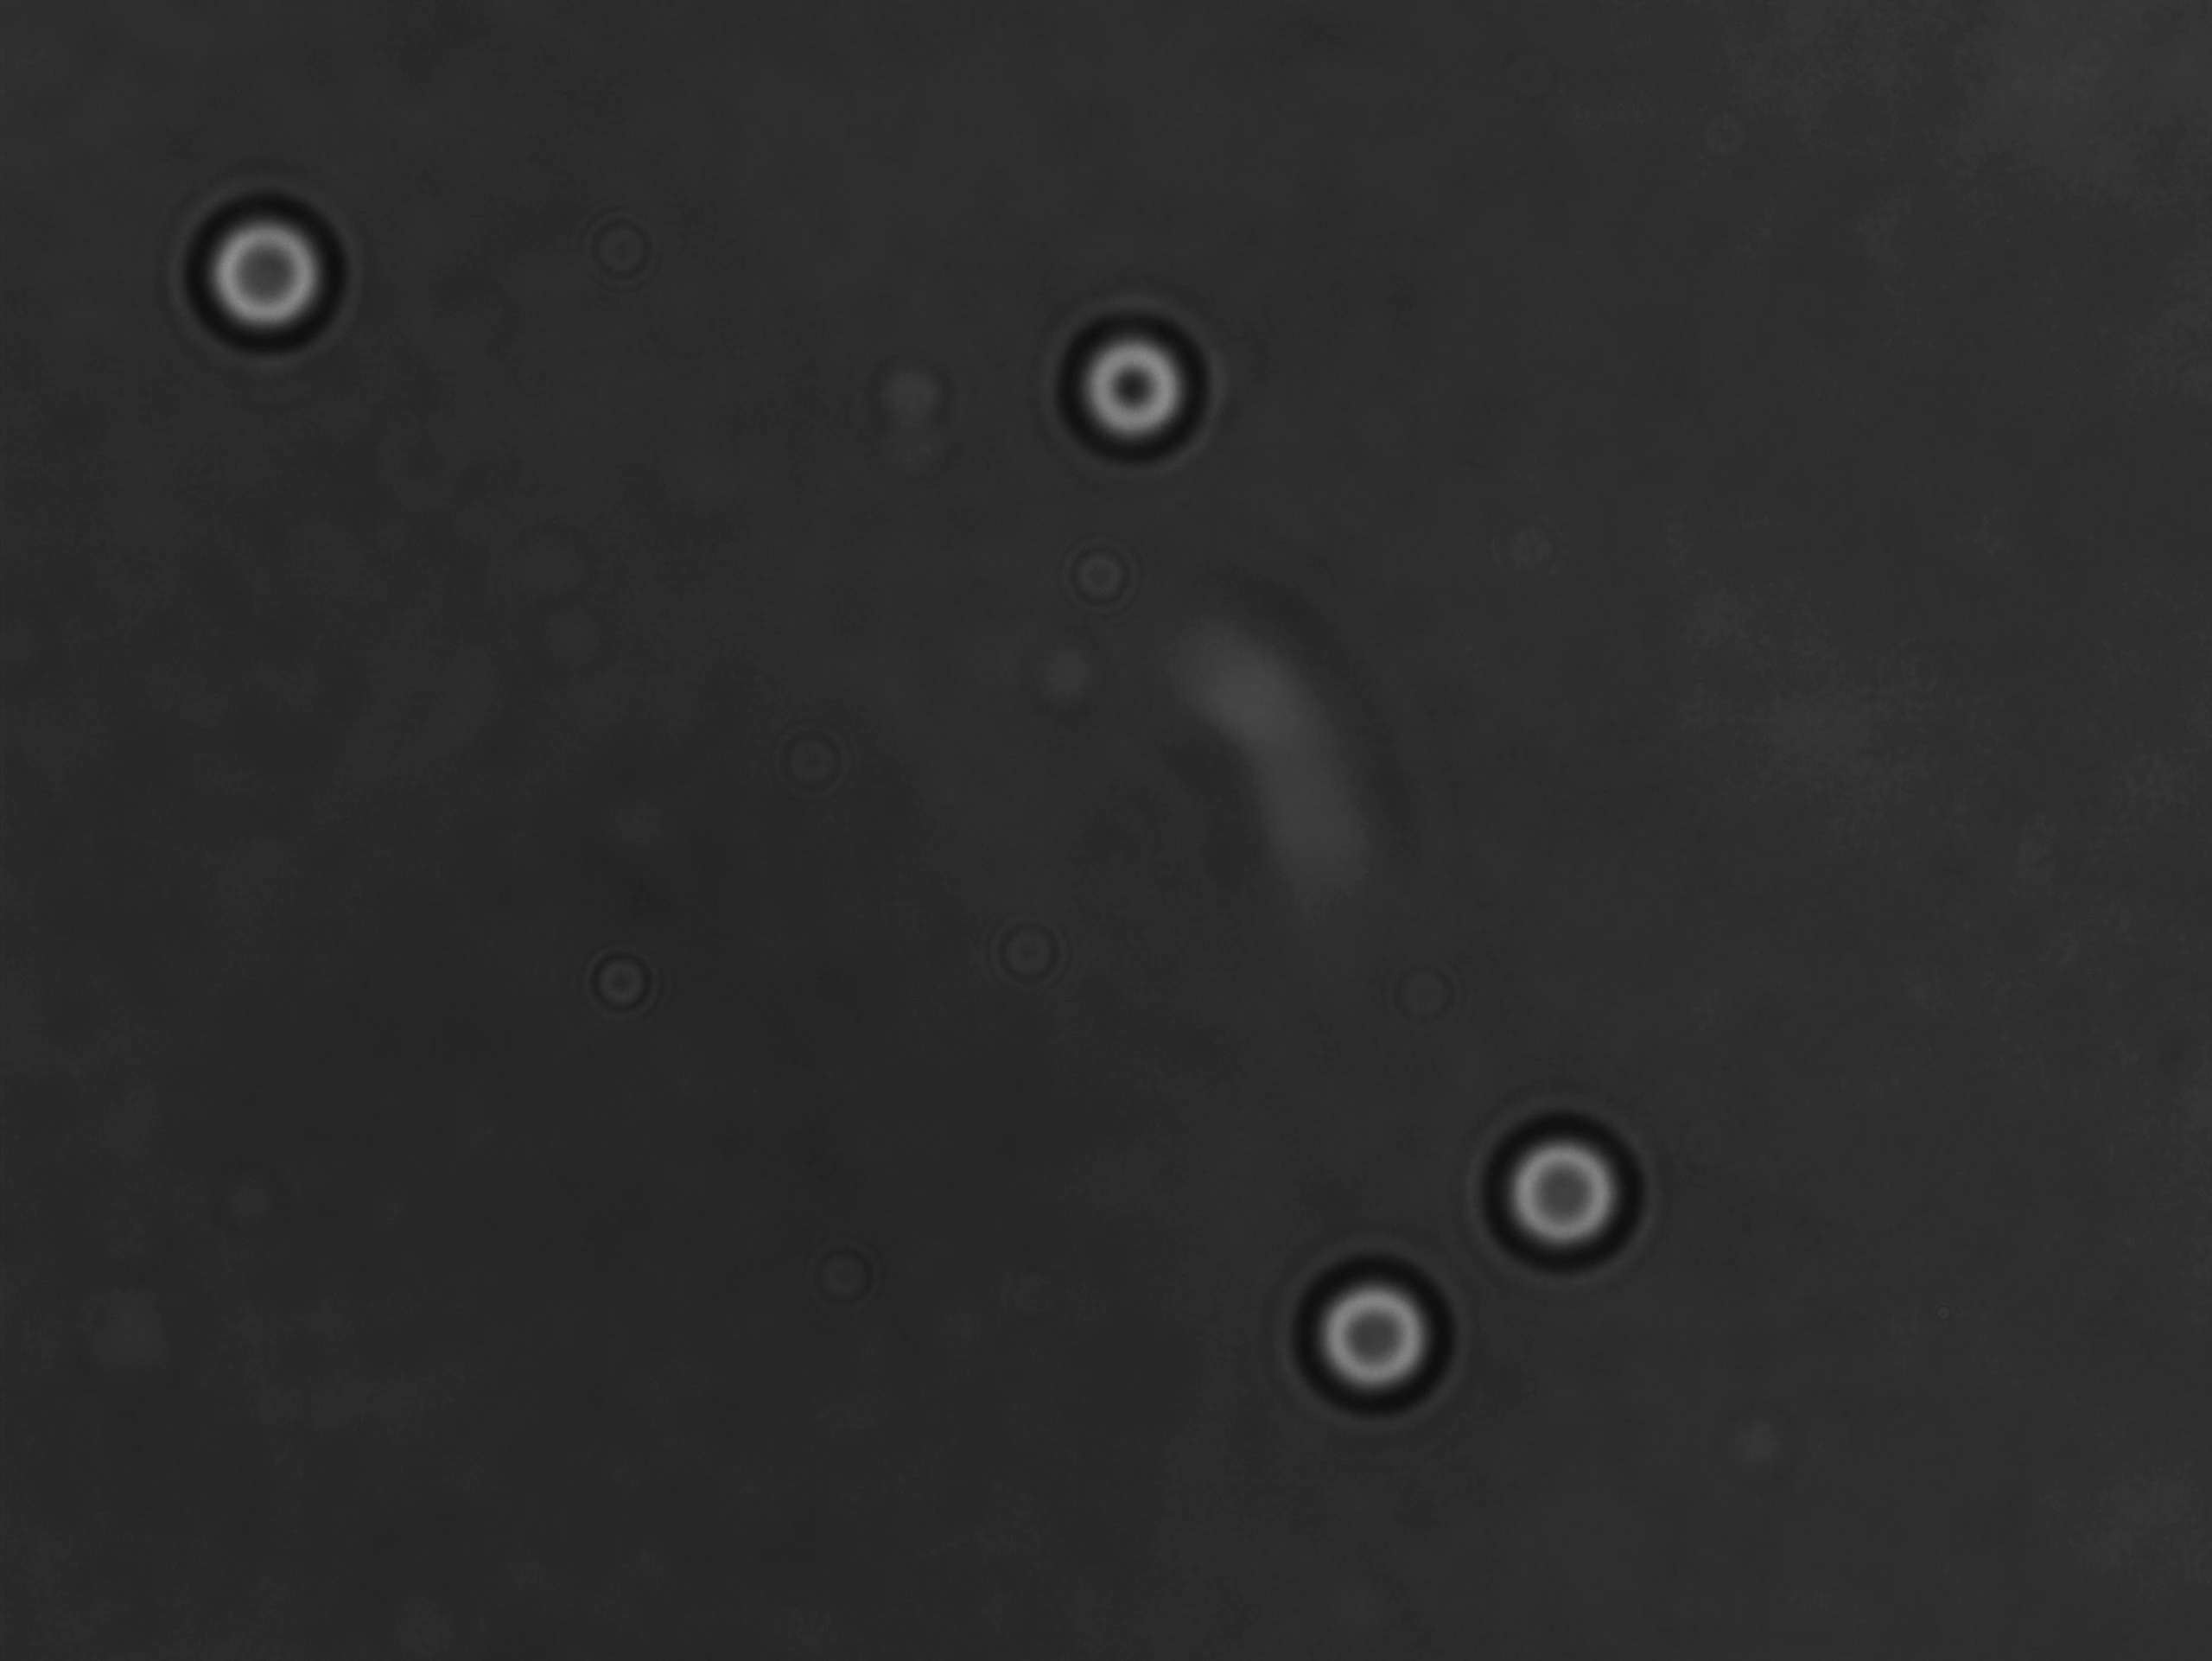depth:40: (1041, 281, 1225, 461)
depth:60: (1462, 1078, 1659, 1293), (1291, 1254, 1485, 1429), (173, 187, 338, 345)
